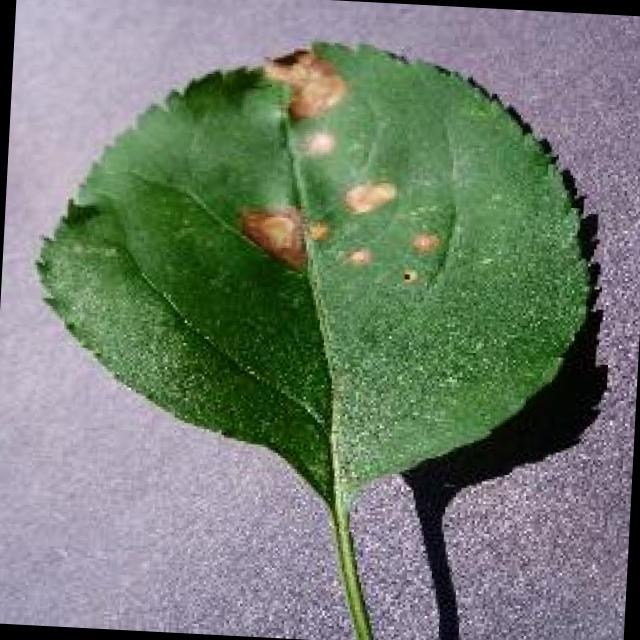leaf_spot: (39, 42, 589, 640)
